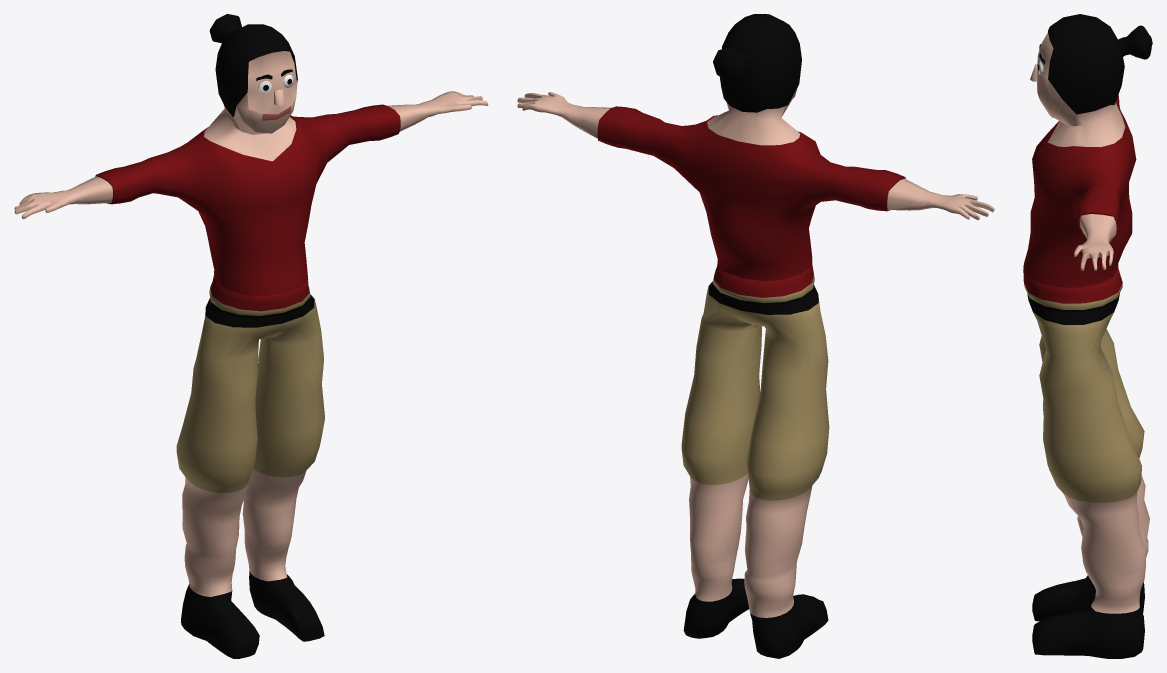
Rendered from human.fbx.
3 views of the same model, side by side, from view 1: azimuth 30°, elevation 25°; view 2: azimuth 150°, elevation 25°; view 3: azimuth 270°, elevation 25° (orthographic).
Parts seen in each view (by area): view 1: human rig.002; view 2: human rig.002; view 3: human rig.002.
Boxes of the visible parts, box(x1,y1,x2,y2) form: human rig.002: box(14, 14, 488, 658); human rig.002: box(517, 14, 994, 658); human rig.002: box(1023, 14, 1152, 658).
Bounding box in the file's own units: 283 × 351 × 66.79.
